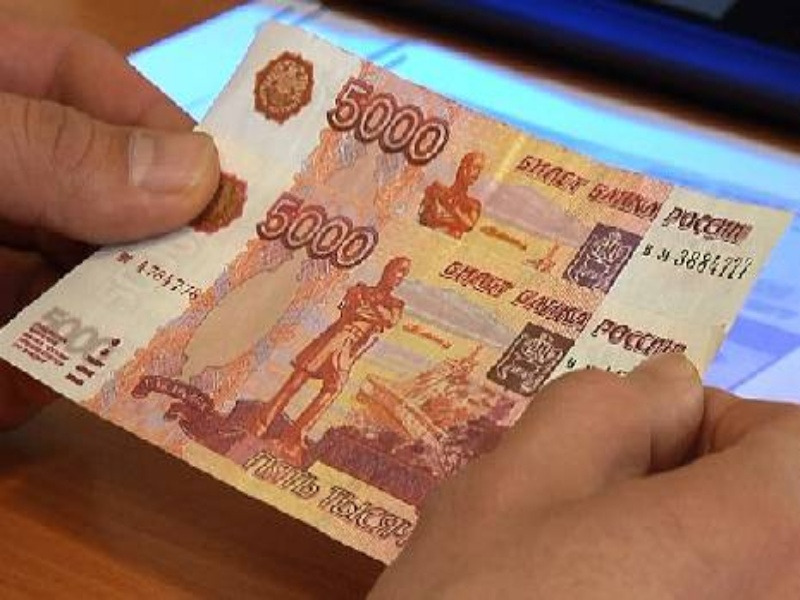cash: (1, 21, 795, 566)
